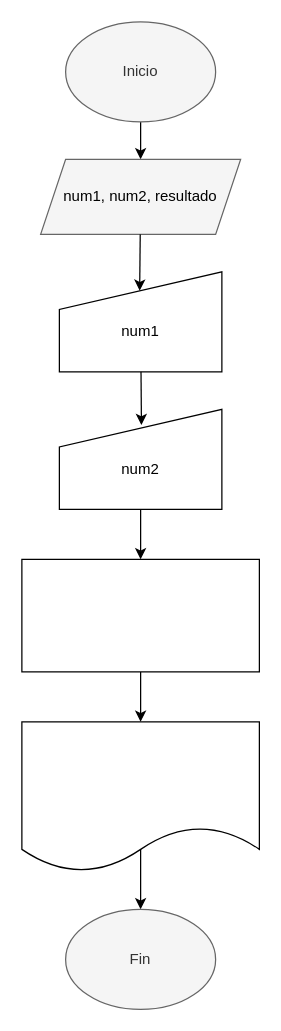
Image size: 281x1031. Some labels were removed from this diagram. The shapes that lost their labels are listed below. From the top down, each one's box as (x1, y1, x2, y2) in pixels, then its label:
(21, 558, 259, 672): resultado = (num1 + num2)
(21, 721, 259, 872): "El resultado de la suma es: " + resultado
